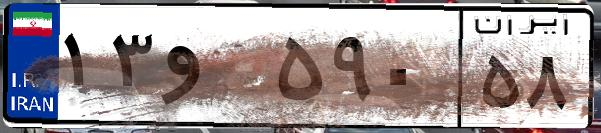0: (385, 28, 445, 110)
1: (57, 26, 110, 100)
3: (110, 28, 158, 98)
5: (270, 28, 330, 110), (475, 38, 525, 113)
8: (525, 38, 570, 115)
9: (330, 28, 385, 110)
و: (158, 20, 270, 120)
